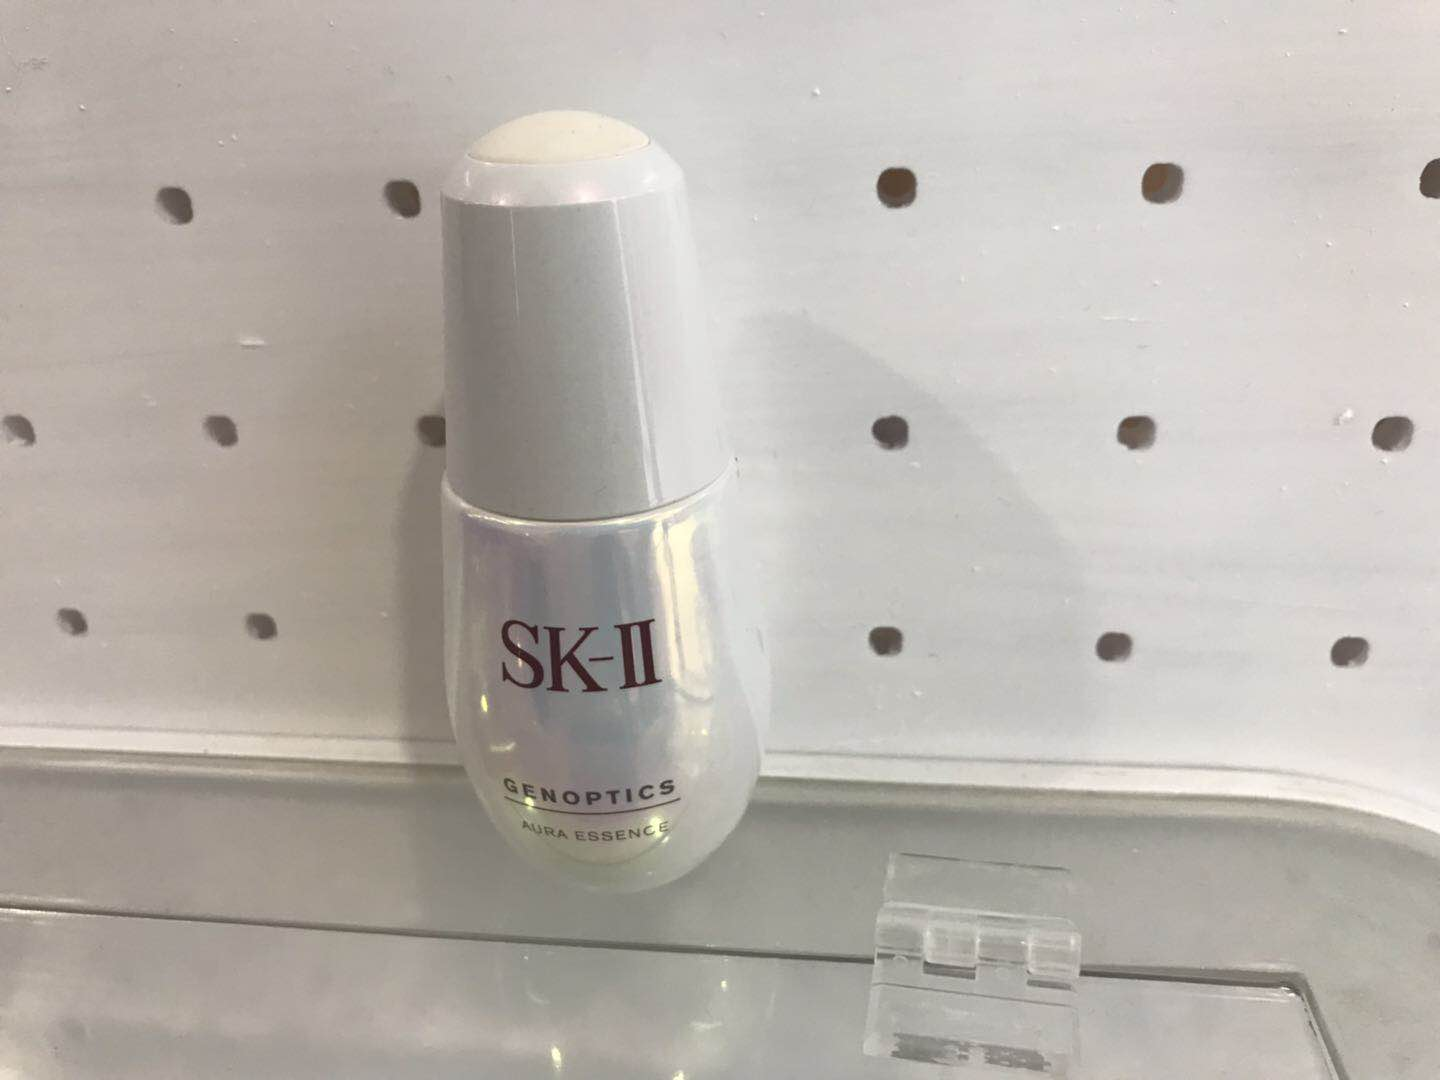sk2: (370, 98, 801, 922)
